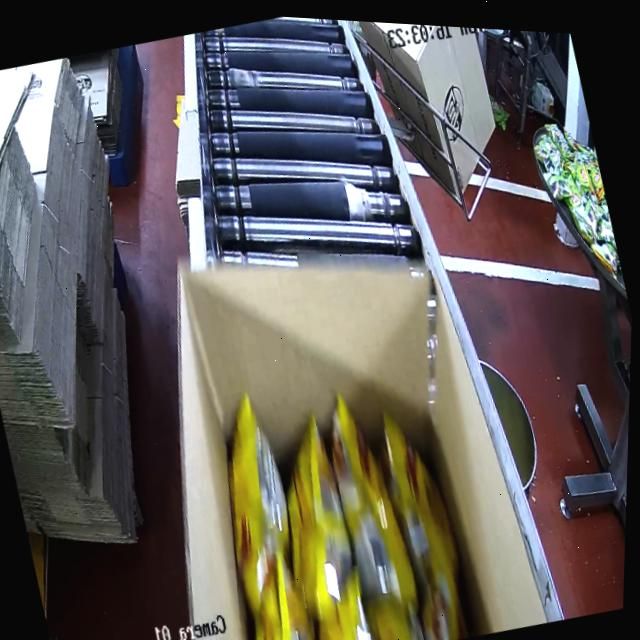SALTED: (183, 364, 486, 640)
